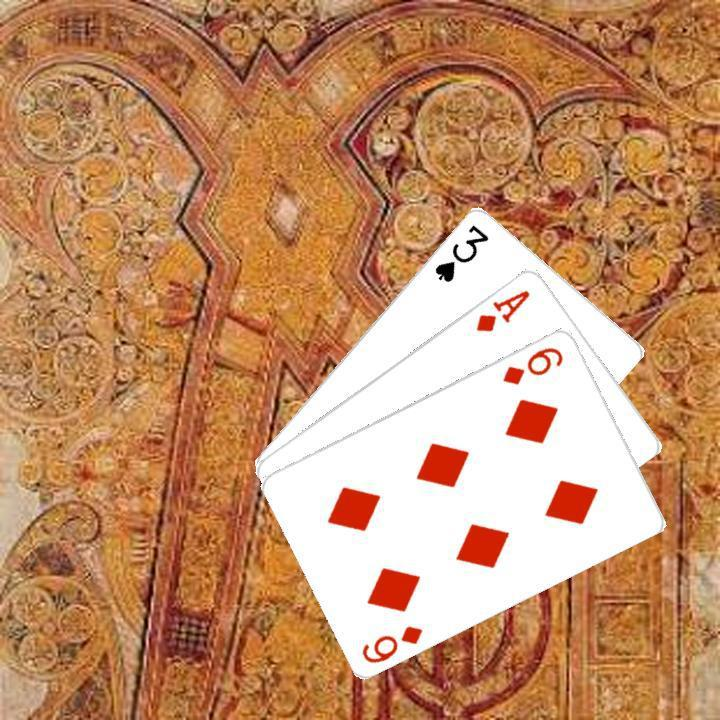3: (430, 220, 491, 284)
6: (498, 342, 566, 387), (357, 620, 425, 665)
A: (471, 285, 533, 334)
